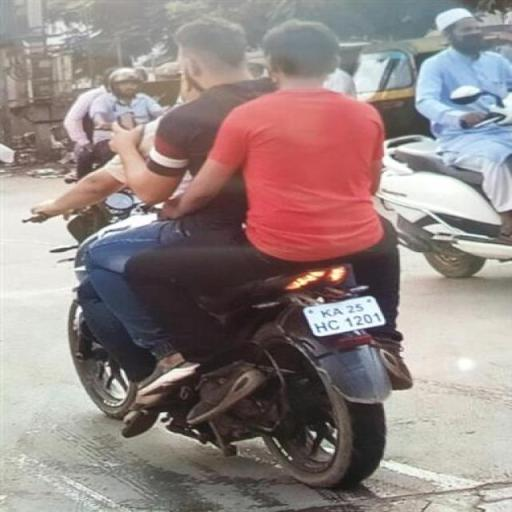tripple riding: (28, 16, 415, 317)
